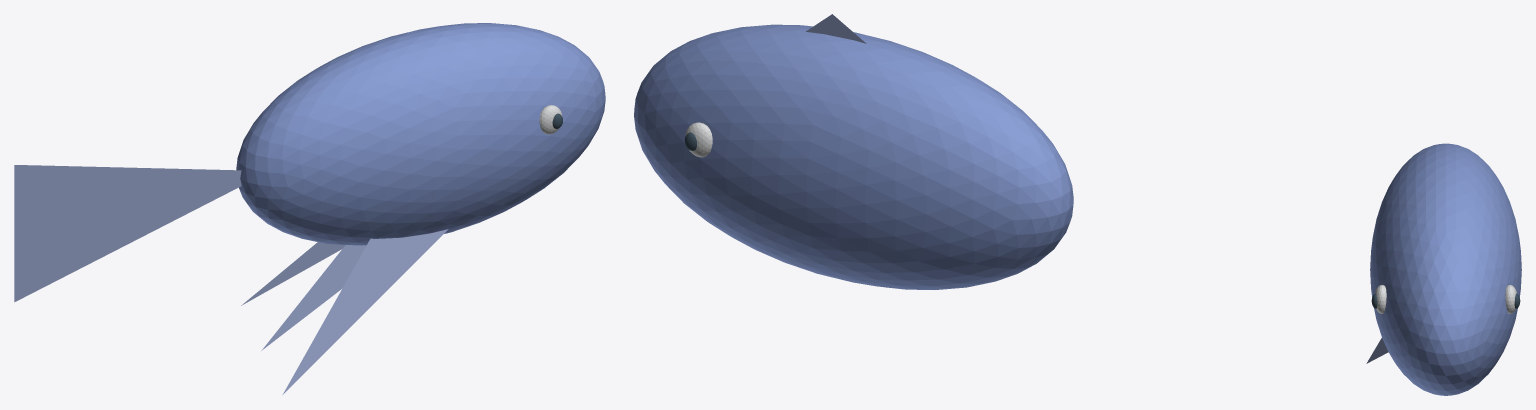
The picture shows the model from 3 angles, left to right: view 1: azimuth 30°, elevation 25°; view 2: azimuth 150°, elevation 25°; view 3: azimuth 270°, elevation 25°; orthographic projection. The views are drawn at different scales.
Visible parts, largest first — view 1: longfin_00, longfin_01, longfin_09, longfin_08, longfin_07; view 2: longfin_00, longfin_02, longfin_03; view 3: longfin_00, longfin_03, longfin_05, longfin_09.
Part boxes in pixels (<box>): longfin_00: <box>236,23,605,245</box>; longfin_01: <box>14,165,241,302</box>; longfin_09: <box>282,229,448,394</box>; longfin_08: <box>261,245,366,350</box>; longfin_07: <box>241,242,344,305</box>; longfin_00: <box>634,24,1073,289</box>; longfin_02: <box>806,14,866,43</box>; longfin_03: <box>685,122,712,157</box>; longfin_00: <box>1370,143,1521,395</box>; longfin_03: <box>1505,285,1516,313</box>; longfin_05: <box>1375,285,1386,313</box>; longfin_09: <box>1366,338,1388,363</box>.
Bounding box in the file's own units: 3.25 × 1.6 × 0.78.
